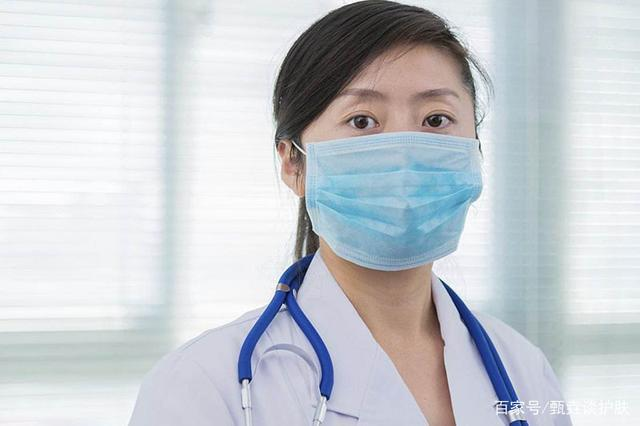mask: (297, 29, 490, 281)
